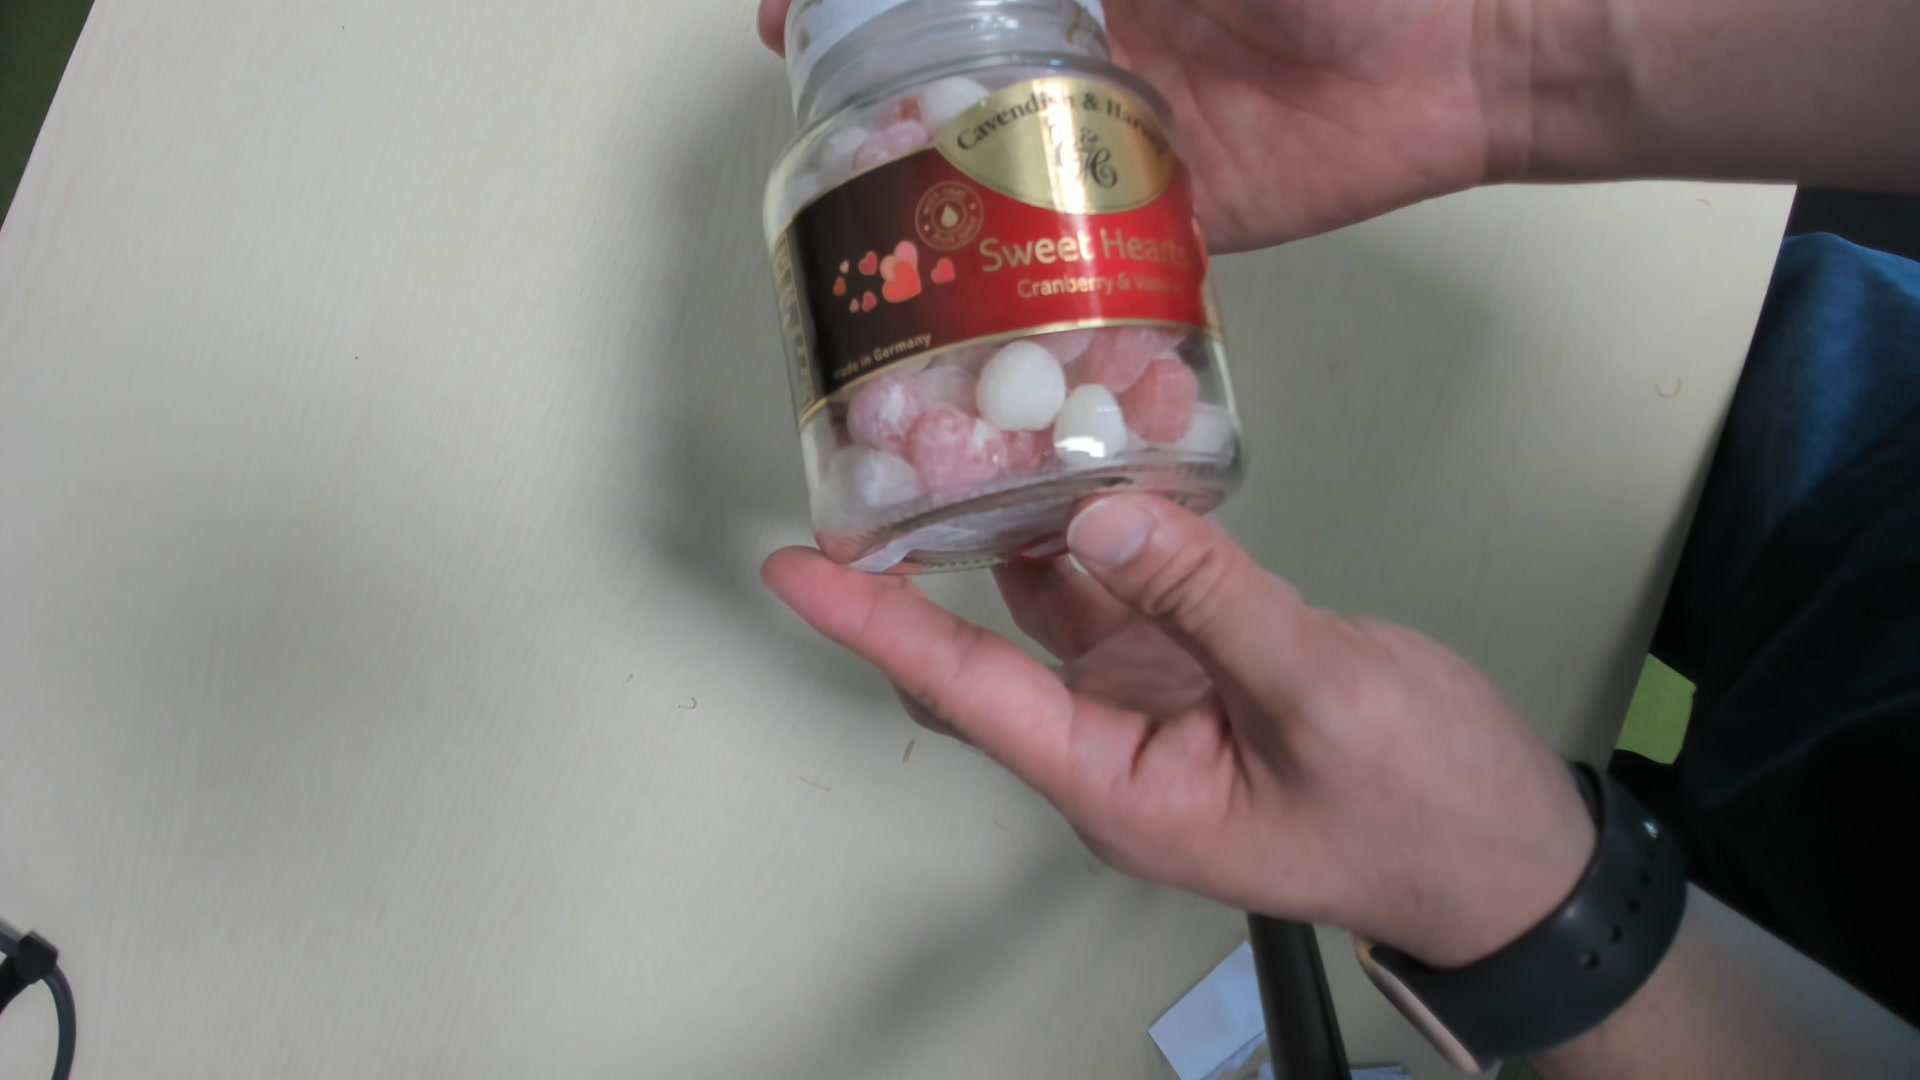SweetsChocolatesOthers_300-399g_NonHalal_Nonhealthy: (756, 7, 1261, 564)
